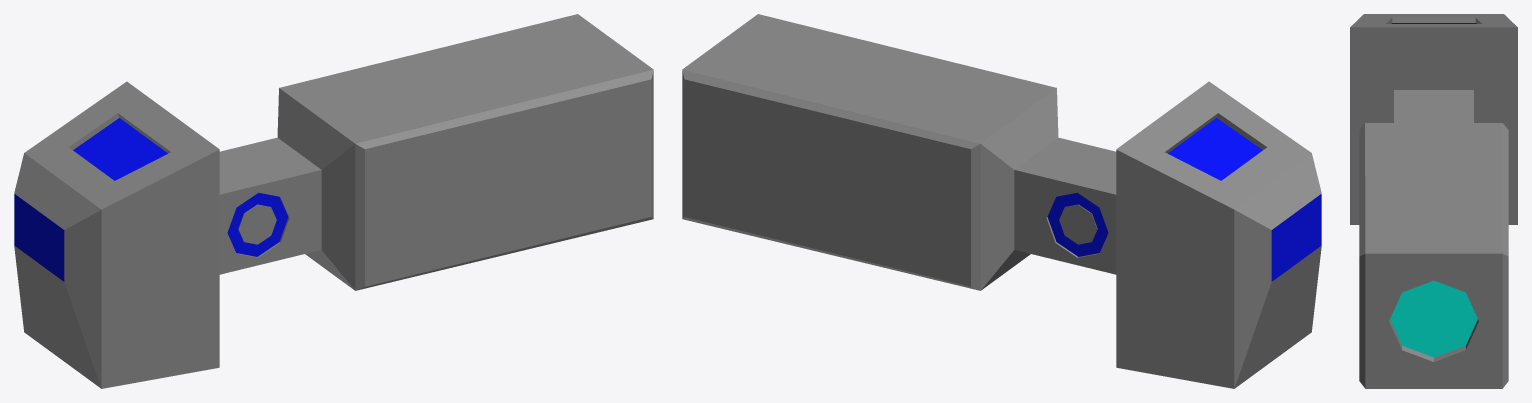
The model's file is VOAL_SpaceVehicle.fbx.
The picture shows the model from 3 angles, left to right: view 1: azimuth 30°, elevation 25°; view 2: azimuth 150°, elevation 25°; view 3: azimuth 270°, elevation 25°; orthographic projection. The views are drawn at different scales.
Parts seen in each view (by area): view 1: VOALSpace_Vehicle; view 2: VOALSpace_Vehicle; view 3: VOALSpace_Vehicle.
Boxes of the visible parts, x1,y1,x2,y2 form: VOALSpace_Vehicle: [14, 14, 653, 388]; VOALSpace_Vehicle: [682, 14, 1321, 388]; VOALSpace_Vehicle: [1350, 14, 1517, 388].
Bounding box in the file's own units: 1548 × 560 × 432.
Materials: 1 (1 with a texture image).
